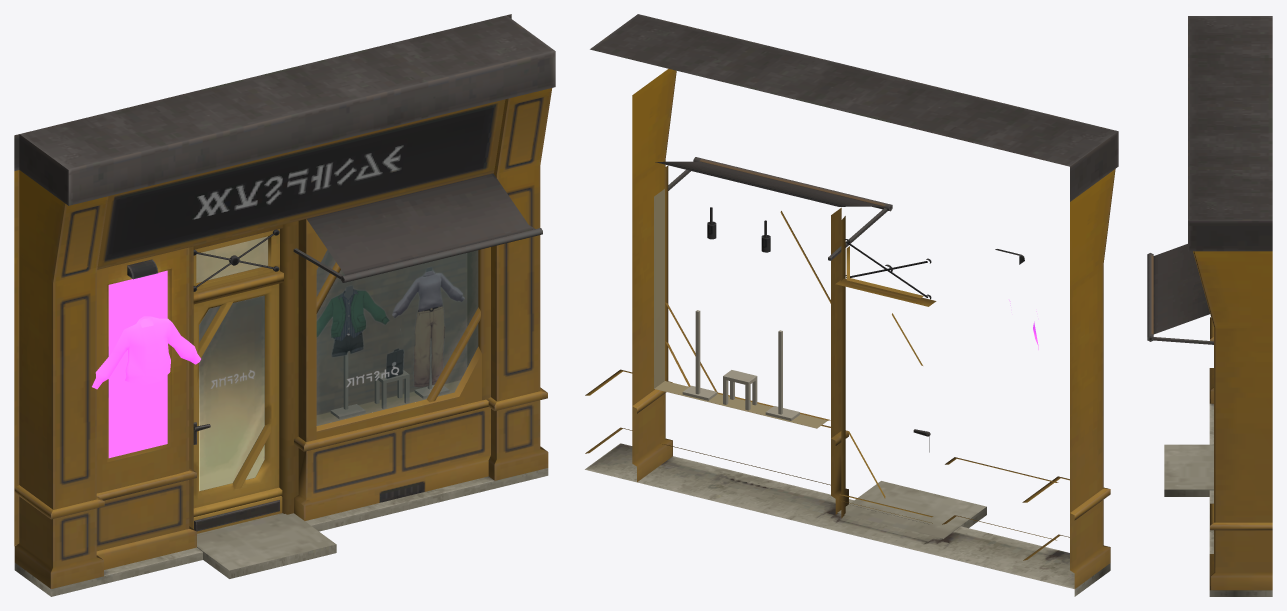
Rendered from t1_b_boutique1_b.glb.
3 views of the same model, side by side, from view 1: azimuth 30°, elevation 25°; view 2: azimuth 150°, elevation 25°; view 3: azimuth 270°, elevation 25° (orthographic). The views are drawn at different scales.
Parts seen in each view (by area): view 1: nomerge_t1_b_boutique1_b_mesh; view 2: nomerge_t1_b_boutique1_b_mesh; view 3: nomerge_t1_b_boutique1_b_mesh.
Part boxes in pixels (left/top/right/bottom): nomerge_t1_b_boutique1_b_mesh: left=14, top=14, right=555, bottom=596; nomerge_t1_b_boutique1_b_mesh: left=585, top=14, right=1118, bottom=596; nomerge_t1_b_boutique1_b_mesh: left=1147, top=16, right=1272, bottom=596.
Size of the model in its own units: 5.5 by 4.6 by 1.39.
Materials: 4 (3 with a texture image).
